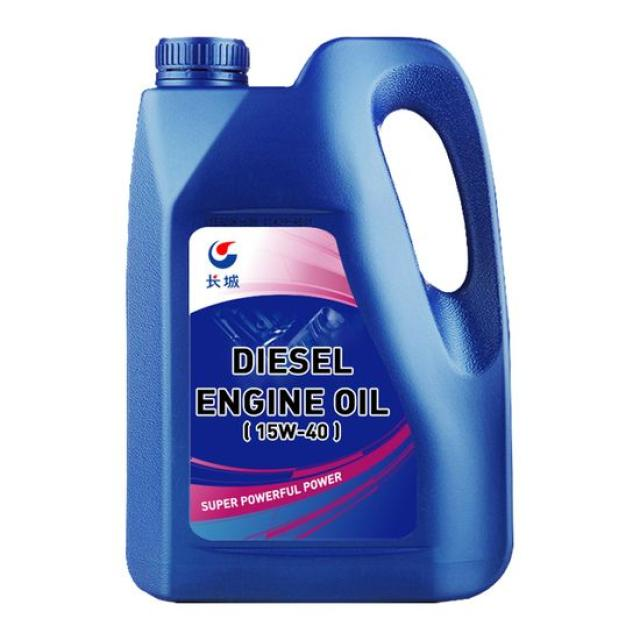motor_oil: (111, 28, 517, 618)
